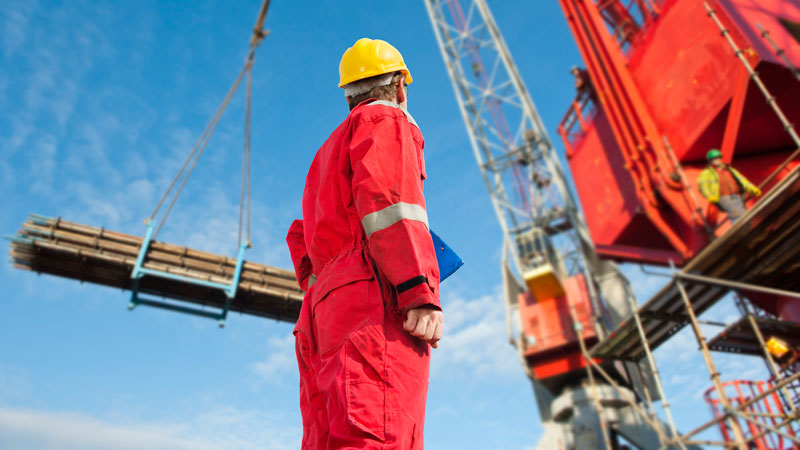With Helmet: (331, 31, 423, 117)
